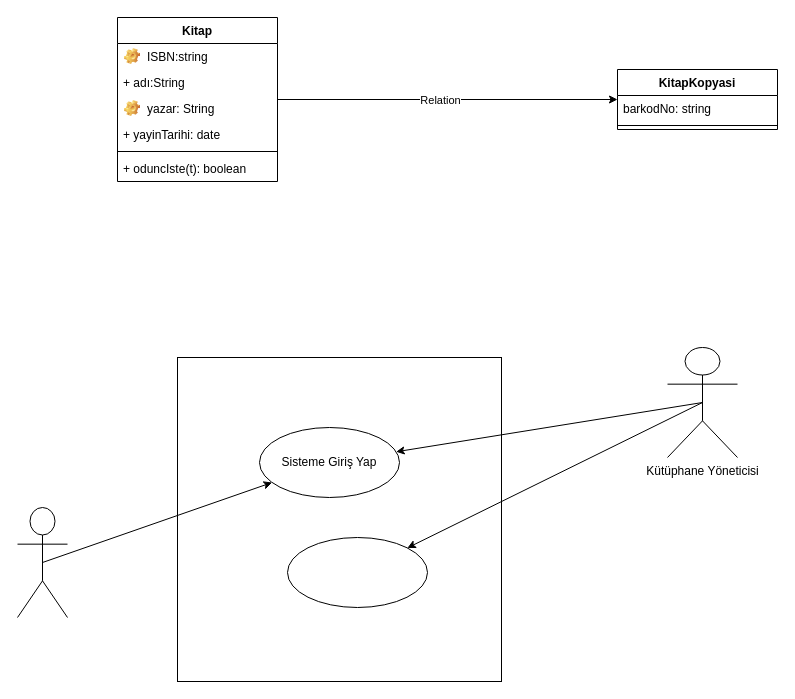
The diagram is 795 pixels wide and 699 high, and some of its shapes have lost their labels. The centre of each missing label's shape, as x and y in pixels:
Kitap Ara: the point at 357,572
Üye: the point at 42,562
